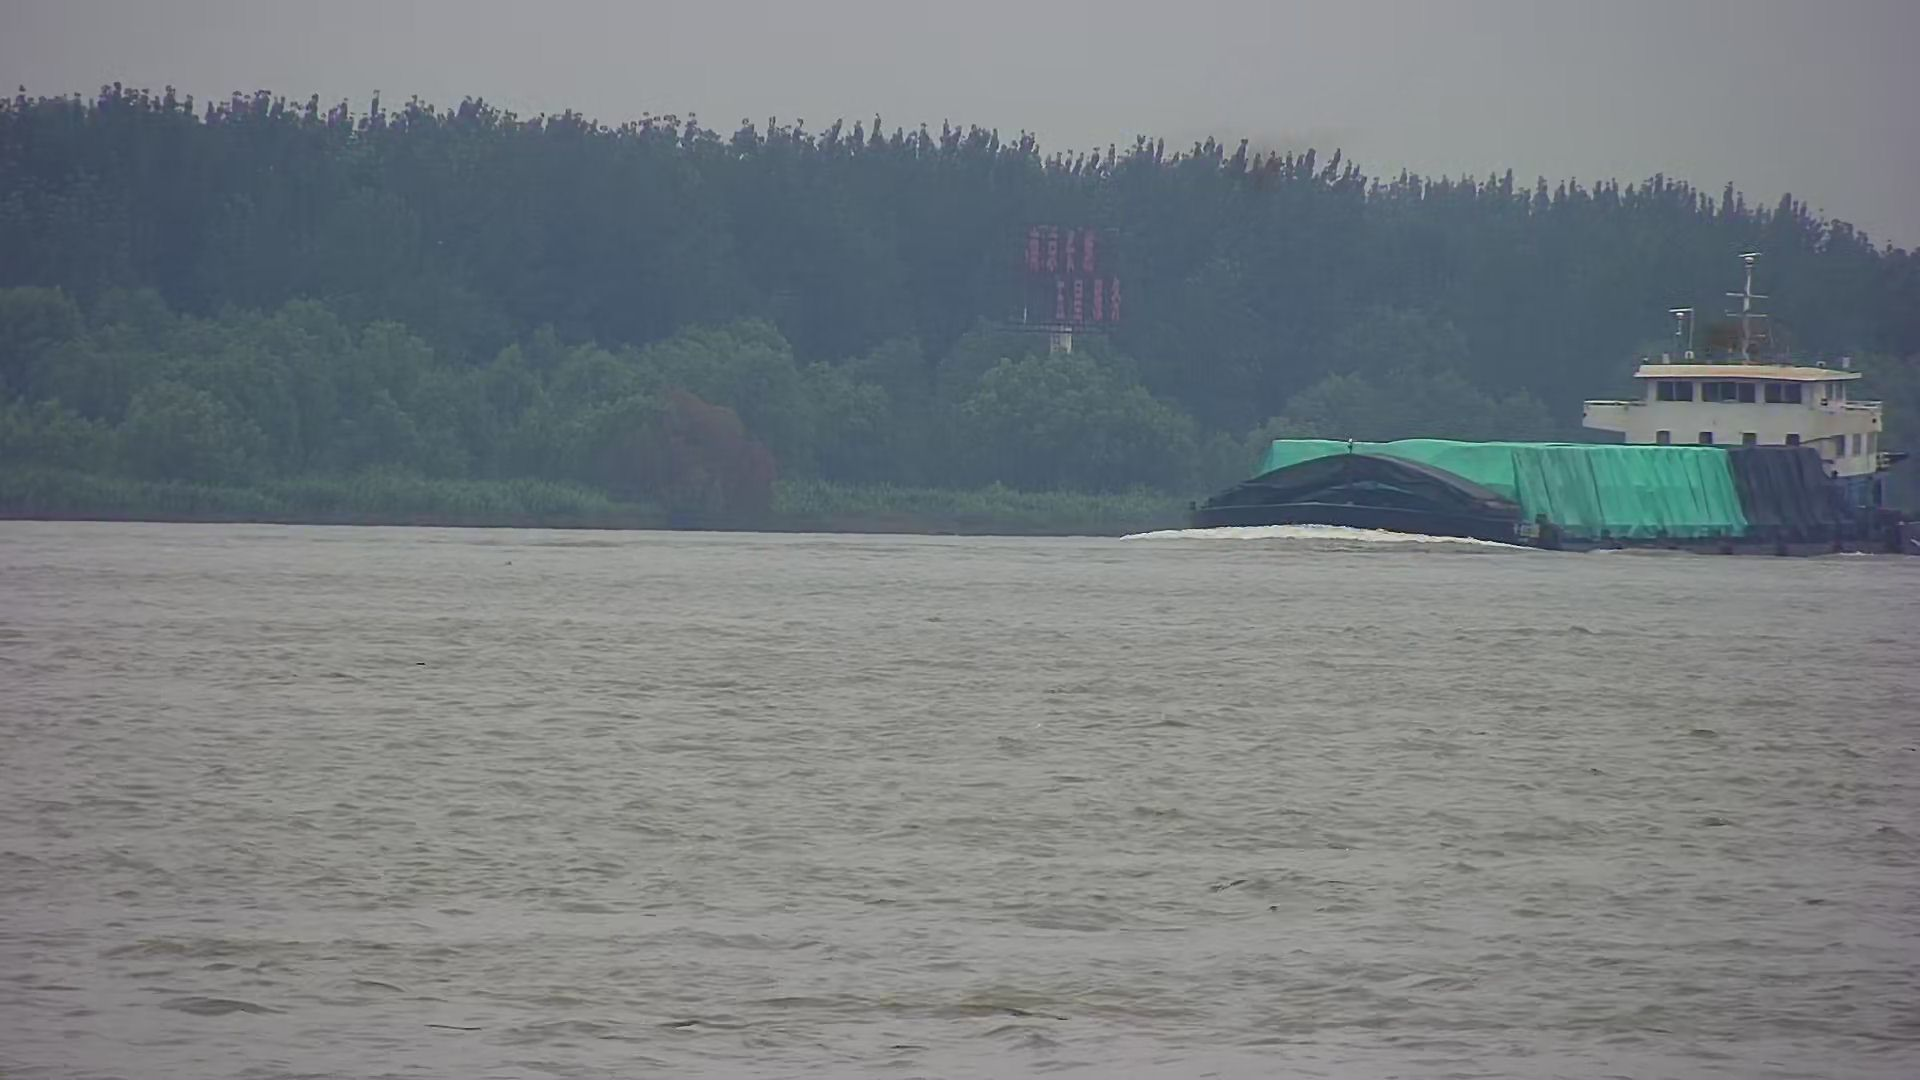ship: (1150, 332, 1917, 553)
